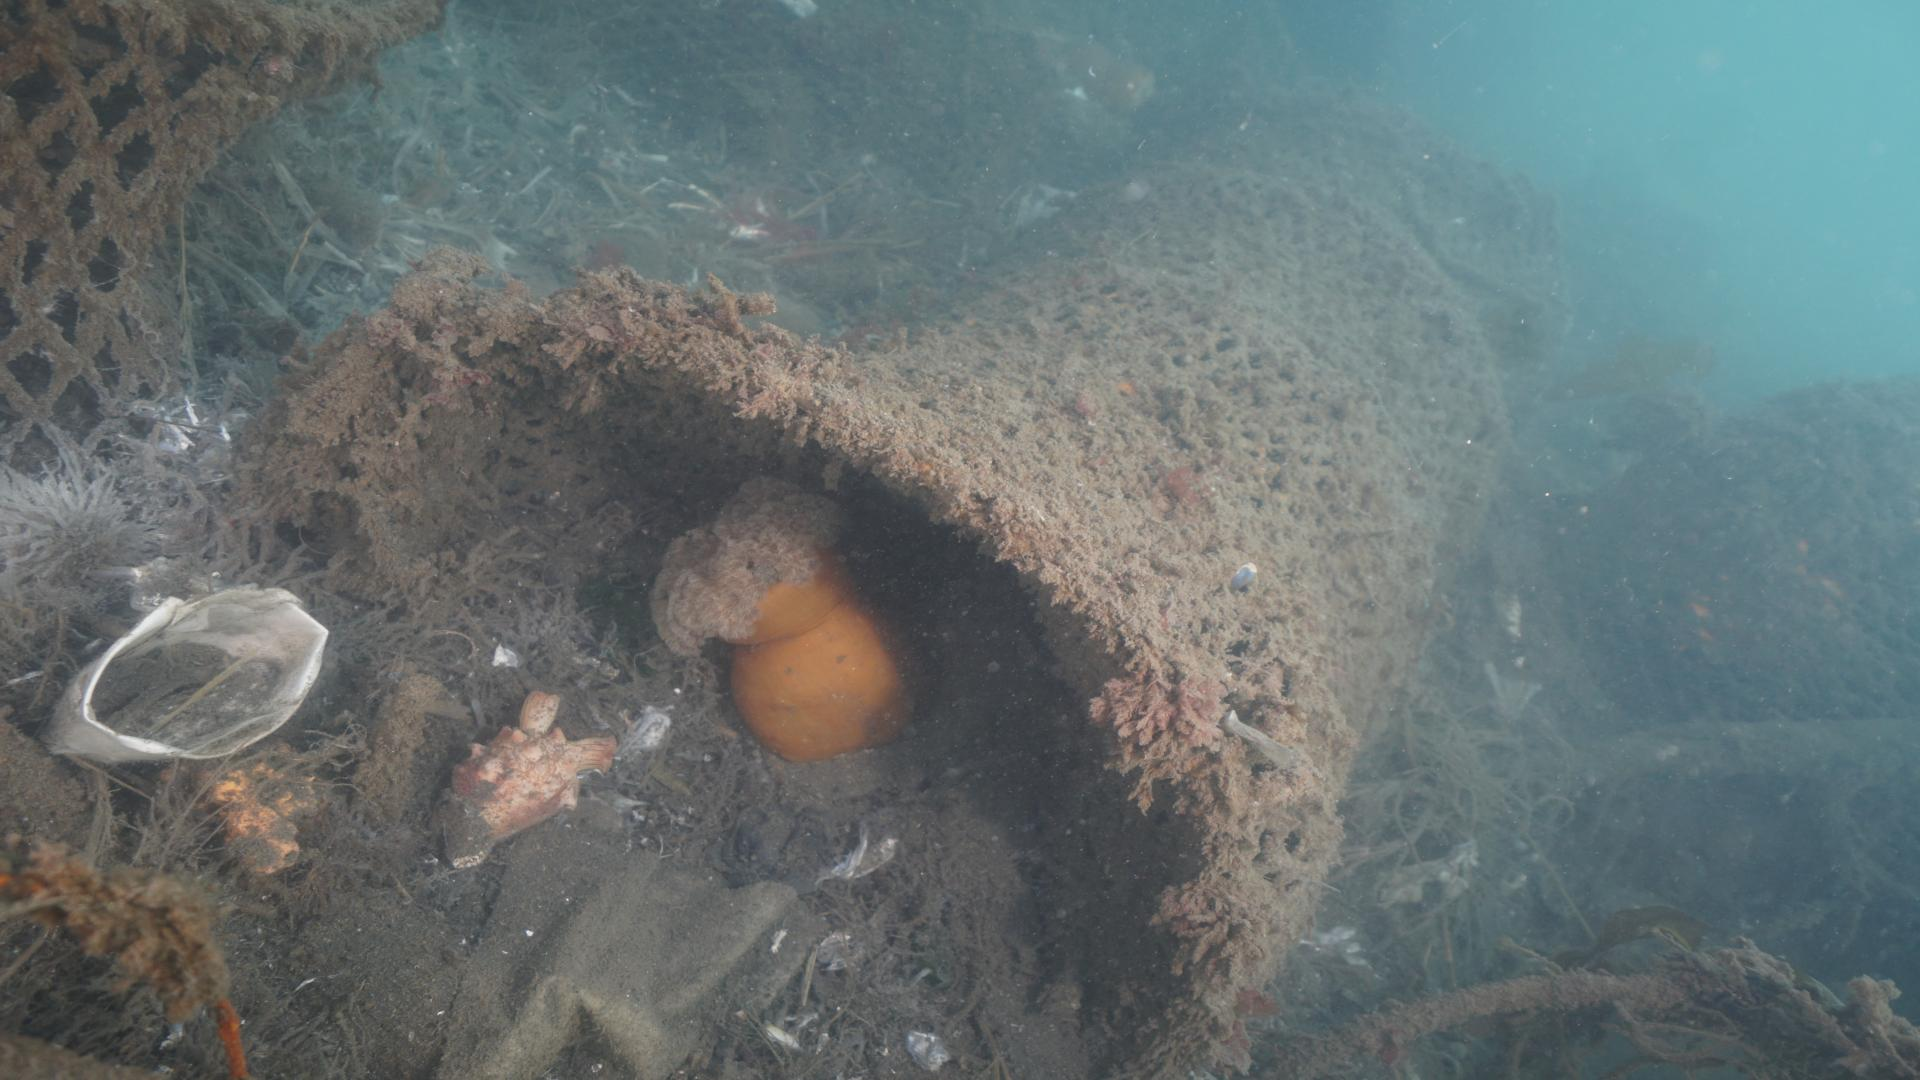fish net: (0, 0, 454, 477)
spring fish trap: (368, 102, 1543, 1080)
